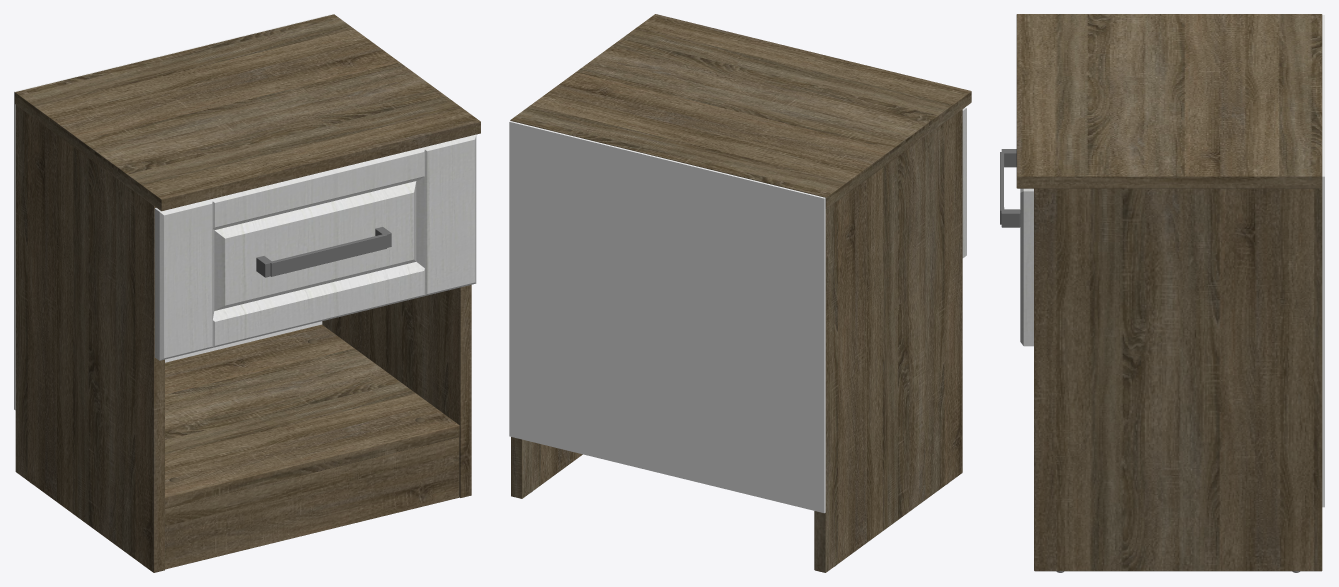
Rendered from ilona_sb_3077.glb.
The picture shows the model from 3 angles, left to right: view 1: azimuth 30°, elevation 25°; view 2: azimuth 150°, elevation 25°; view 3: azimuth 270°, elevation 25°; orthographic projection. The views are drawn at different scales.
Visible parts, largest first — view 1: body, NT_furniture, NT_body_wall; view 2: body, NT_body_wall; view 3: body, NT_body_wall, NT_furniture.
Boxes of the visible parts, <box> form: body: <box>15,14,480,572</box>; NT_furniture: <box>256,227,391,277</box>; NT_body_wall: <box>14,14,332,410</box>; body: <box>510,14,971,572</box>; NT_body_wall: <box>509,121,825,513</box>; body: <box>1016,14,1322,571</box>; NT_body_wall: <box>1322,15,1324,507</box>; NT_furniture: <box>1000,149,1020,227</box>.
Bounding box in the file's own units: 0.0044 × 0.00504 × 0.00372.
Materials: 6 (1 with a texture image).
